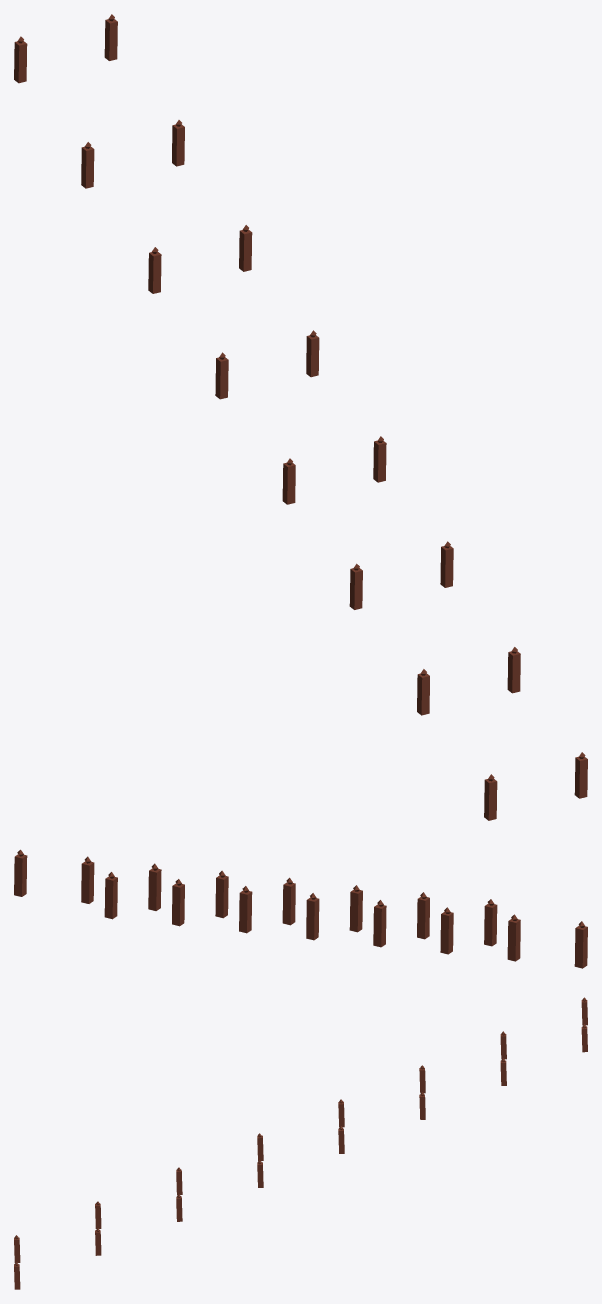
The model's file is libstair_supports.fbx.
3 views of the same model, one above another, from view 1: azimuth 30°, elevation 25°; view 2: azimuth 150°, elevation 25°; view 3: azimuth 270°, elevation 25° (orthographic). The views are drawn at different scales.
Visible parts, largest first — view 1: StairRail_Decor; view 2: StairRail_Decor; view 3: StairRail_Decor.
Boxes of the visible parts, box(x1,y1,x2,y2) form: StairRail_Decor: box(14, 14, 587, 820); StairRail_Decor: box(14, 849, 587, 968); StairRail_Decor: box(14, 997, 587, 1289).
Size of the model in its own units: 1040 by 4415 by 8678.
